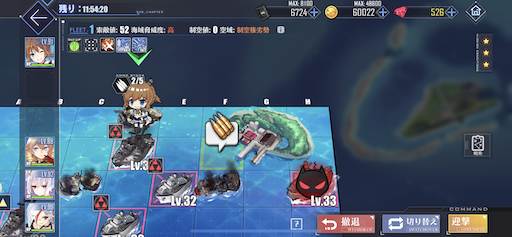boss: (288, 161, 334, 205)
lv3: (91, 194, 143, 237), (149, 160, 196, 205), (107, 124, 154, 169)
